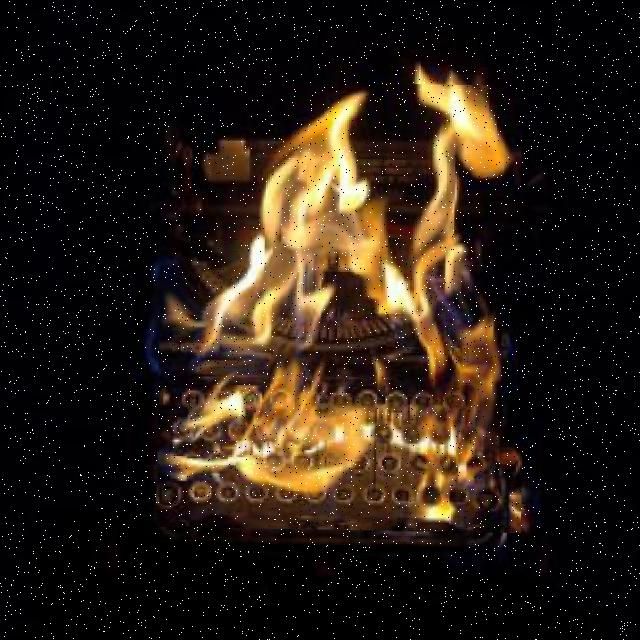fire: (155, 80, 528, 532)
